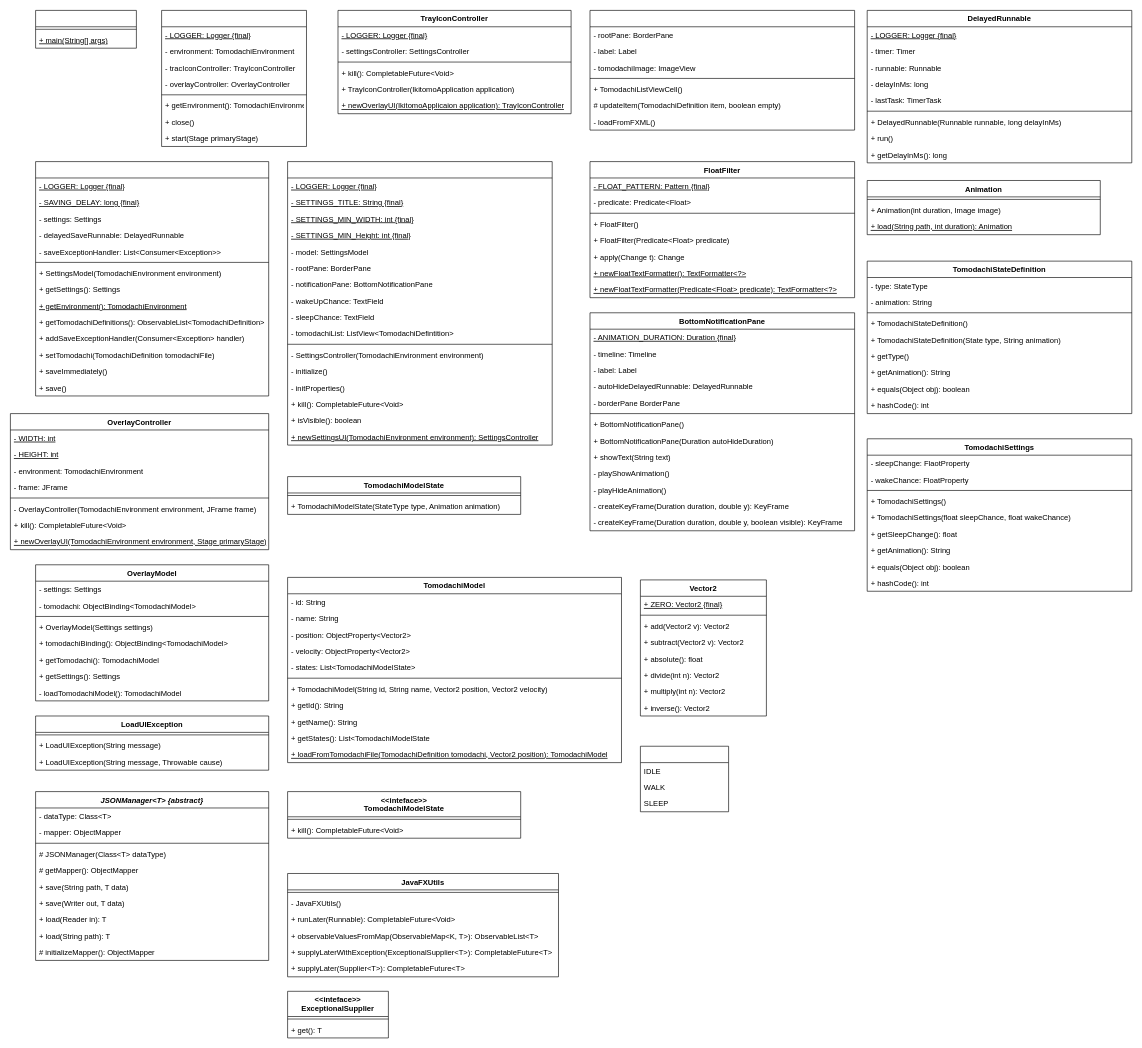
This 1142x1048 diagram has some shape labels left out. The shapes that lost their labels are listed below. From the top down, each one's box as (x1, y1, x2, y2) in pixels, then its label:
(35, 10, 136, 48): IkitomoMain
(161, 10, 306, 146): IkitomoApplication
(589, 10, 855, 130): SettingsModel
(35, 161, 269, 396): SettingsController
(287, 161, 552, 445): TomodachiListViewCell
(640, 746, 729, 812): StateType
